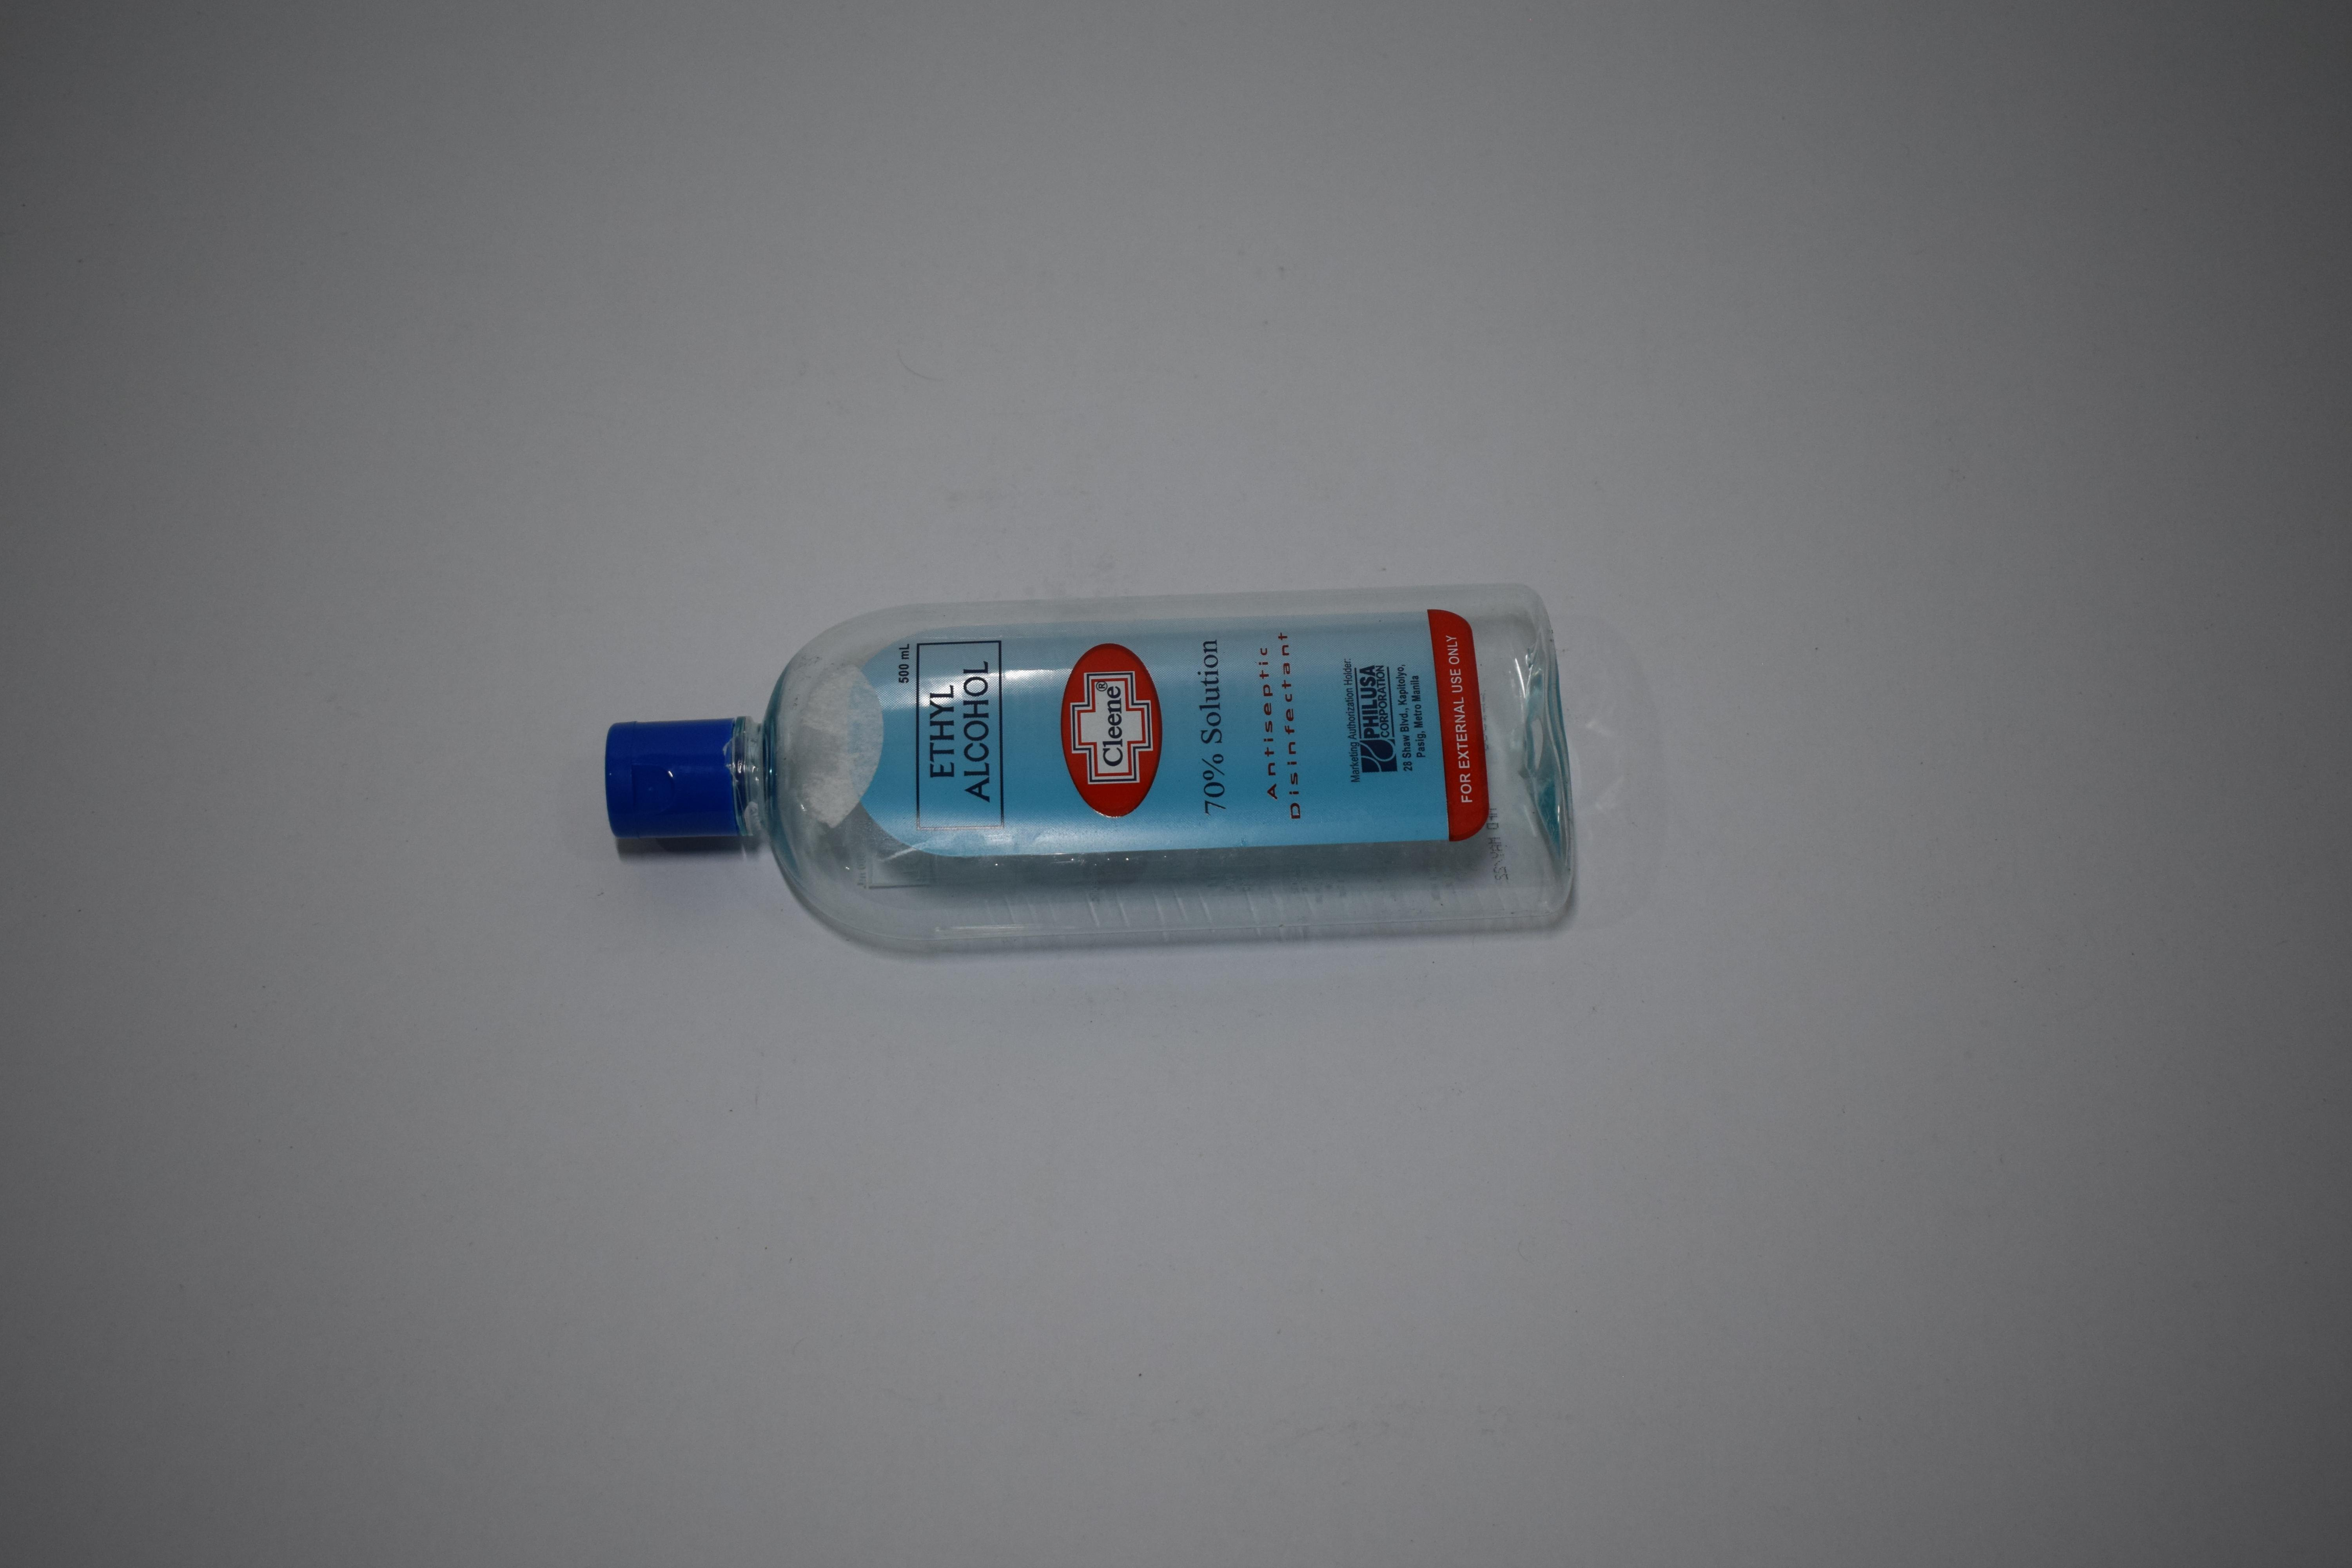bottle: (595, 607, 1584, 921)
